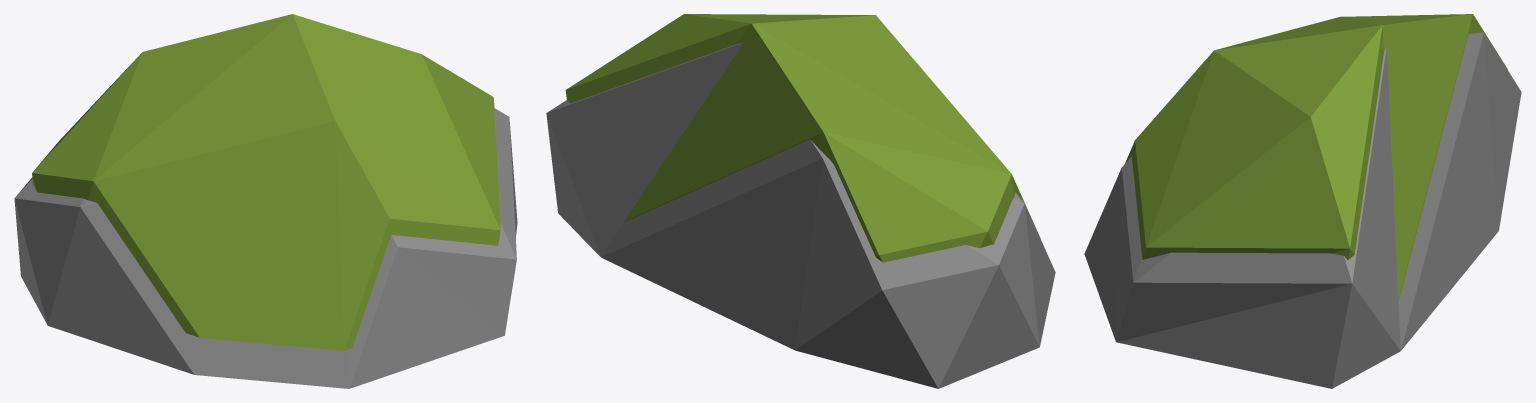
The model's file is Stone_1_moss_pal.fbx.
3 renders of one model, left to right at view 1: azimuth 30°, elevation 25°; view 2: azimuth 150°, elevation 25°; view 3: azimuth 270°, elevation 25°, orthographic. The views are drawn at different scales.
Parts seen in each view (by area): view 1: Stone_1_moss_pal; view 2: Stone_1_moss_pal; view 3: Stone_1_moss_pal.
Part boxes in pixels (x1,y1,x2,y2): Stone_1_moss_pal: (14, 14, 517, 388); Stone_1_moss_pal: (546, 14, 1055, 388); Stone_1_moss_pal: (1084, 14, 1521, 388).
Bounding box in the file's own units: 51.15 × 27.07 × 39.42.
